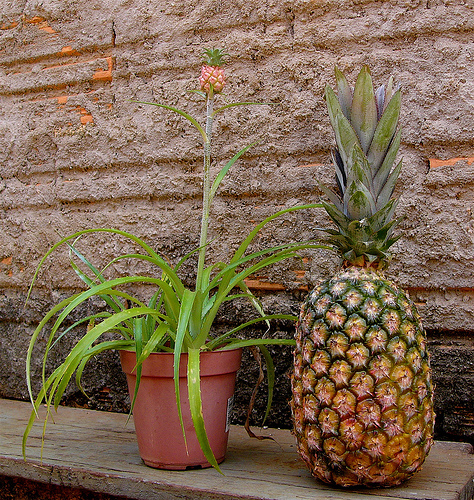pineapple: (285, 62, 437, 493)
